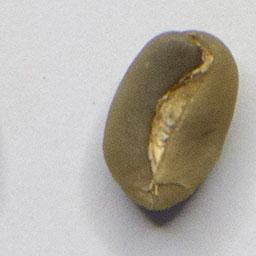premium: (99, 25, 242, 215)
